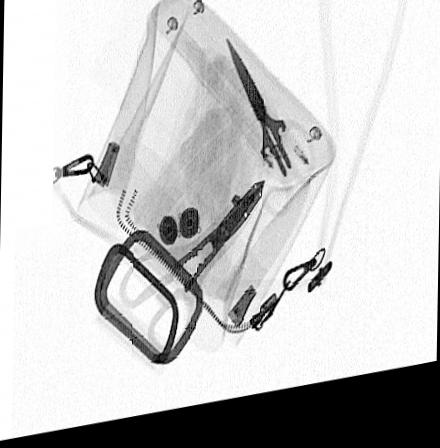Scissors: (116, 188, 264, 361), (223, 43, 314, 230)
